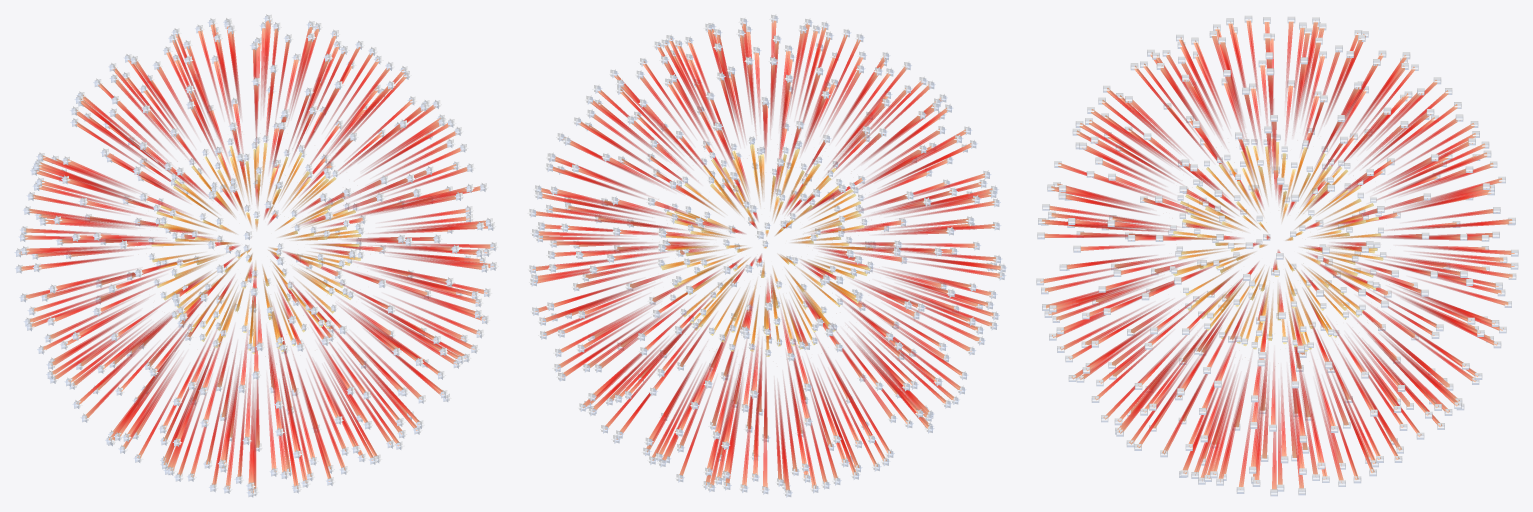
Rendered from fw_peony_red_gold_a.glb.
3 renders of one model, left to right at view 1: azimuth 30°, elevation 25°; view 2: azimuth 150°, elevation 25°; view 3: azimuth 270°, elevation 25°, orthographic.
Visible parts, largest first — view 1: spire; view 2: spire; view 3: spire.
Boxes of the visible parts, x1,y1,x2,y2 form: spire: (14,14,498,497); spire: (528,14,1006,497); spire: (1036,15,1518,496).
Bounding box in the file's own units: 20.28 × 20.23 × 20.23.
Materials: 3 (3 with a texture image).
